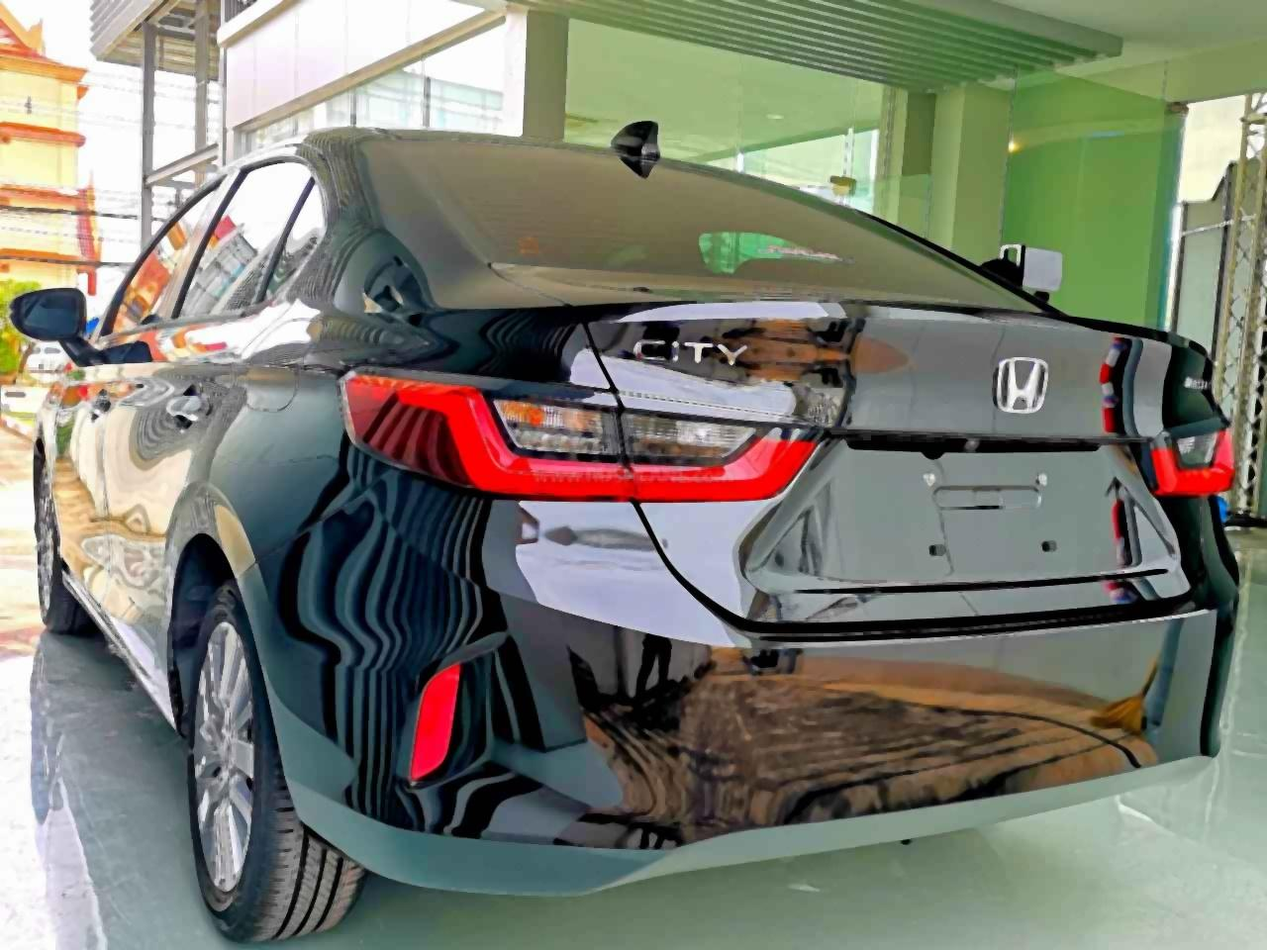Car boot: (488, 253, 1255, 635)
Fender - -R-L-: (200, 226, 463, 599)
Passenger-s door - -F-L-: (57, 171, 160, 631)
Passenger-s door - -R-L-: (159, 139, 313, 682)
Rear bumper: (228, 460, 1251, 909)
Rear light - -L-: (334, 352, 828, 523)
Rear light - -R-: (1124, 409, 1249, 509)
Side bumper - -L-: (50, 550, 218, 747)
Side mirror - -L-: (8, 267, 110, 372)
